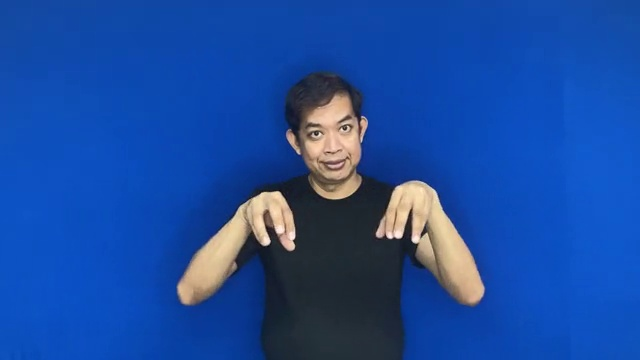egg: (231, 175, 439, 255)
